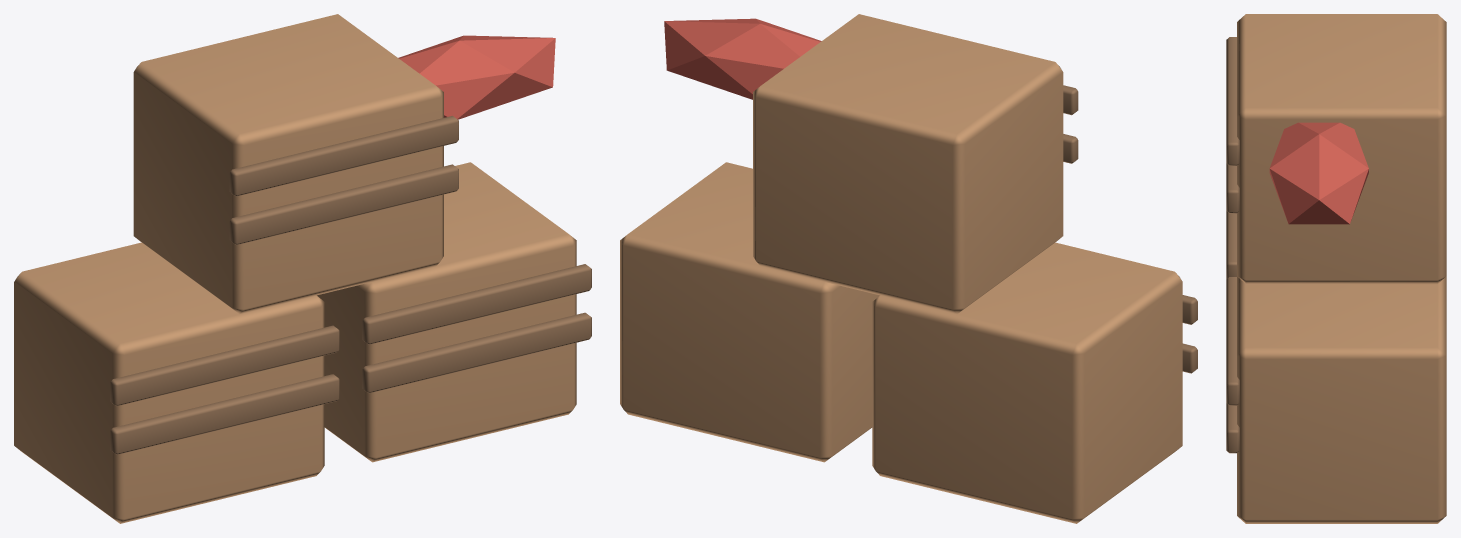
Rendered from MYB96_MarketCrateStack.fbx.
The picture shows the model from 3 angles, left to right: view 1: azimuth 30°, elevation 25°; view 2: azimuth 150°, elevation 25°; view 3: azimuth 270°, elevation 25°; orthographic projection. The views are drawn at different scales.
Visible parts, largest first — view 1: crate_body_2, crate_body_0, crate_body_1, cloth_roll, crate_band_a_0, crate_band_a_1, crate_band_b_1, crate_band_b_0, crate_band_a_2, crate_band_b_2; view 2: crate_body_2, crate_body_0, crate_body_1, cloth_roll; view 3: crate_body_1, crate_body_2, cloth_roll, crate_band_b_1, crate_band_b_2, crate_band_b_0, crate_band_a_1, crate_band_a_2.
Boxes of the visible parts, x1,y1,x2,y2 form: crate_body_2: [133, 14, 443, 314]; crate_body_0: [14, 242, 324, 523]; crate_body_1: [317, 162, 576, 462]; cloth_roll: [398, 35, 555, 119]; crate_band_a_0: [110, 374, 339, 454]; crate_band_a_1: [362, 312, 591, 393]; crate_band_b_1: [362, 264, 591, 344]; crate_band_b_0: [110, 325, 339, 406]; crate_band_a_2: [229, 164, 458, 244]; crate_band_b_2: [229, 116, 458, 196]; crate_body_2: [753, 14, 1063, 313]; crate_body_0: [872, 242, 1182, 523]; crate_body_1: [620, 162, 879, 462]; cloth_roll: [664, 18, 821, 99]; crate_body_1: [1237, 276, 1446, 523]; crate_body_2: [1237, 14, 1446, 284]; cloth_roll: [1269, 122, 1368, 224]; crate_band_b_1: [1226, 277, 1239, 405]; crate_band_b_2: [1226, 37, 1239, 165]; crate_band_b_0: [1226, 211, 1236, 279]; crate_band_a_1: [1226, 403, 1239, 453]; crate_band_a_2: [1226, 163, 1239, 213].
Bounding box in the file's own units: 73.49 × 52.4 × 29.4.
